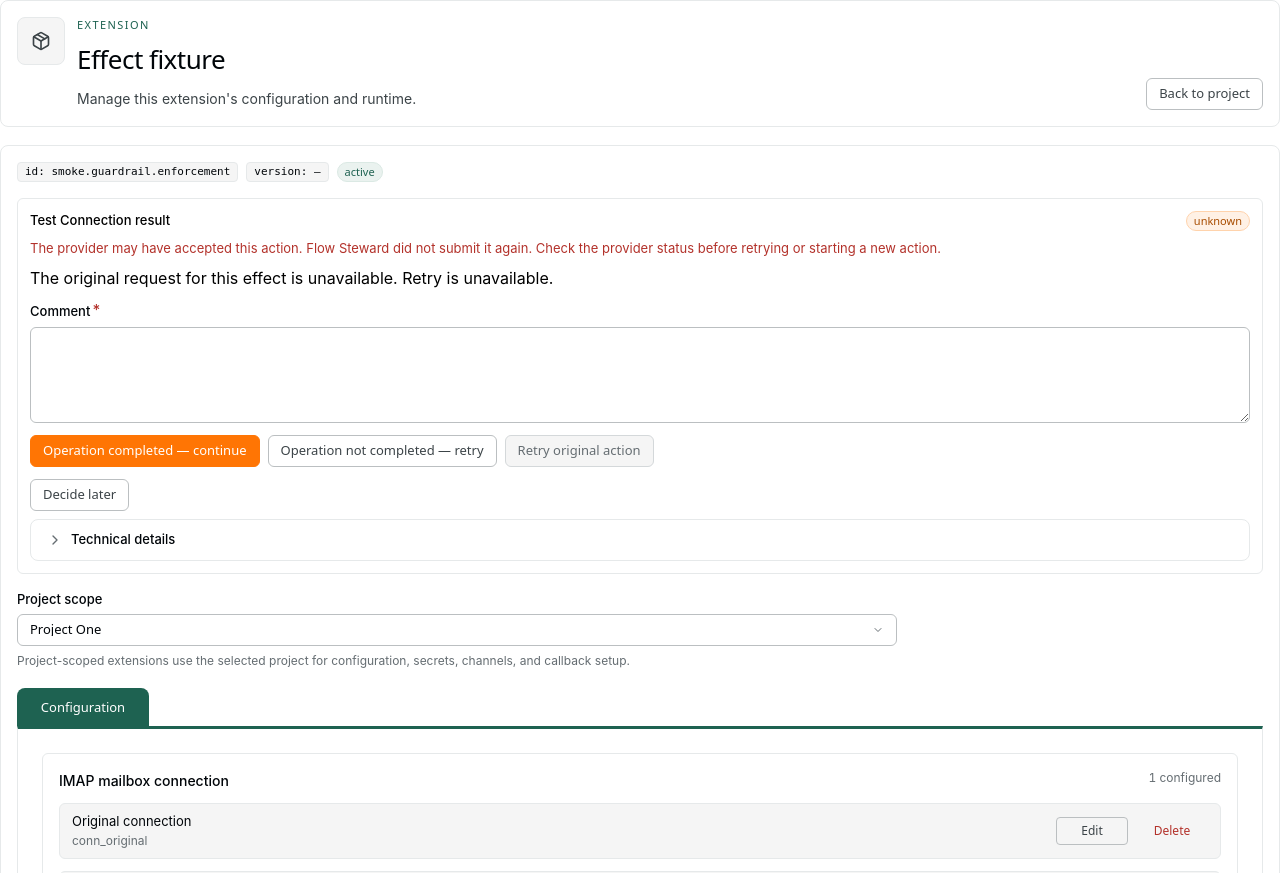
Test case: ExtensionsHubPage › never retries a rejected decision HTTP 409 and refreshes the scoped state on stale version
Type "Checked" into the text box labelled "Comment" at coordinates (640, 375), box [30,327,1250,423]
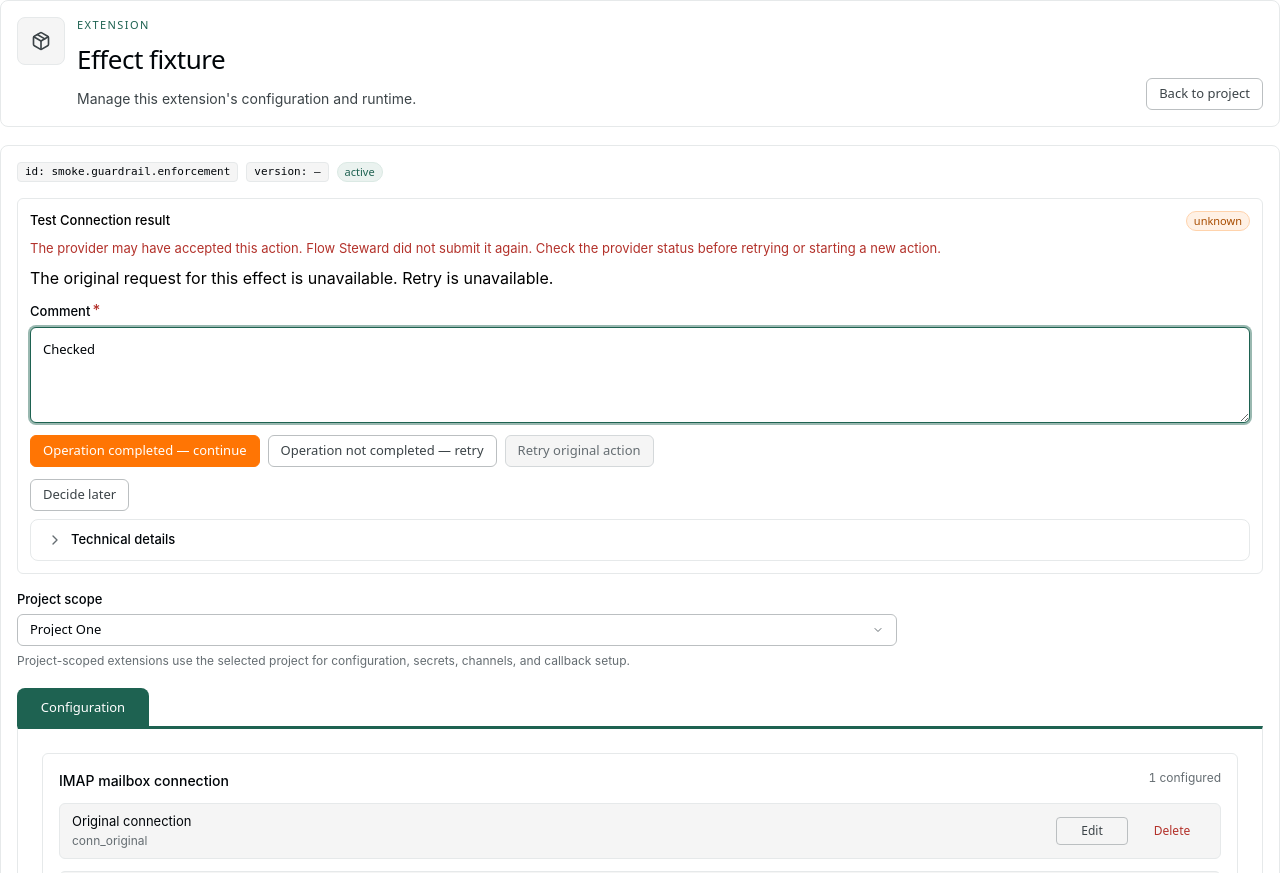
Click the button "Operation not completed — retry" at coordinates (382, 451), box [268,435,496,467]
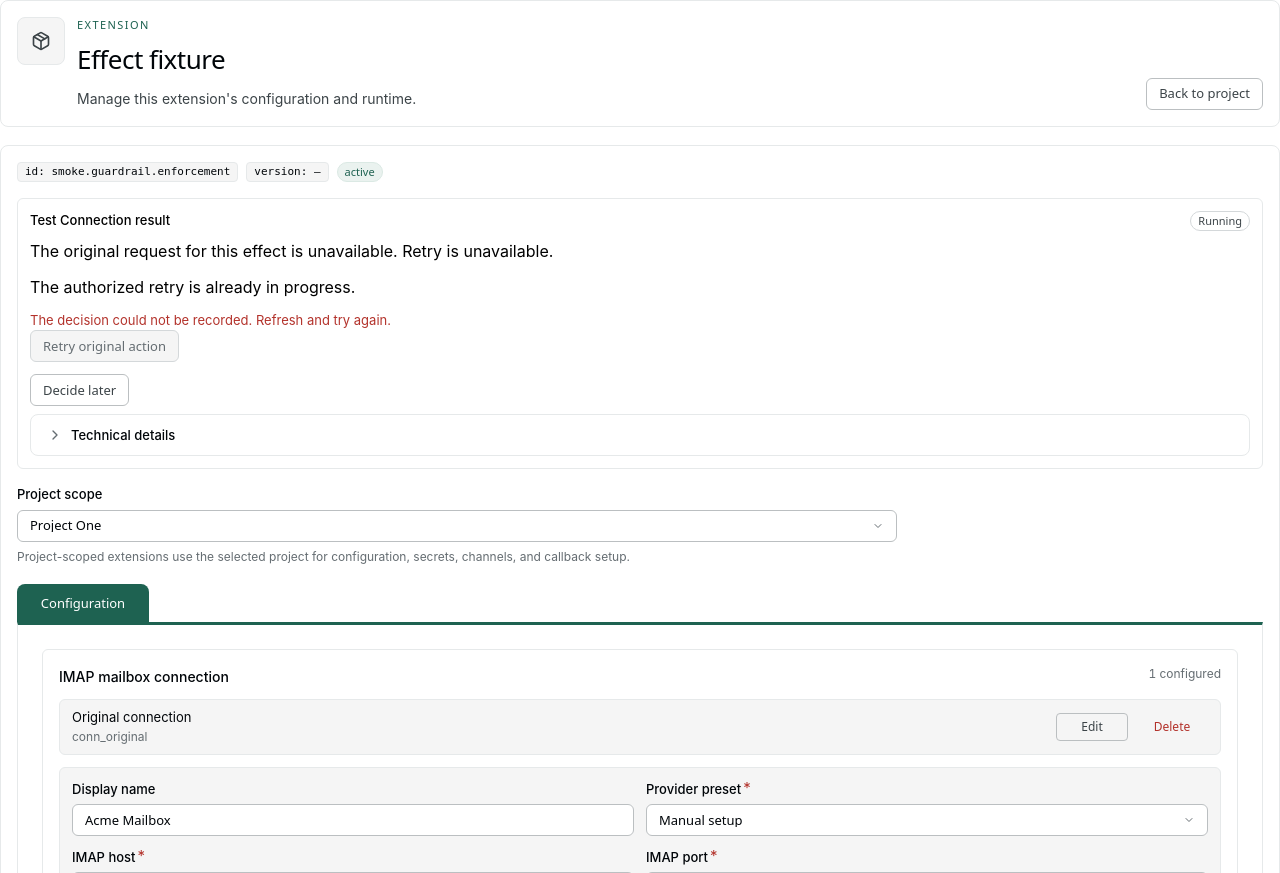
Expected: the button "Retry original action" is disabled, [30,330,179,362]
Expected: the text "The authorized retry is already in progress." is shown, [30,277,355,297]
